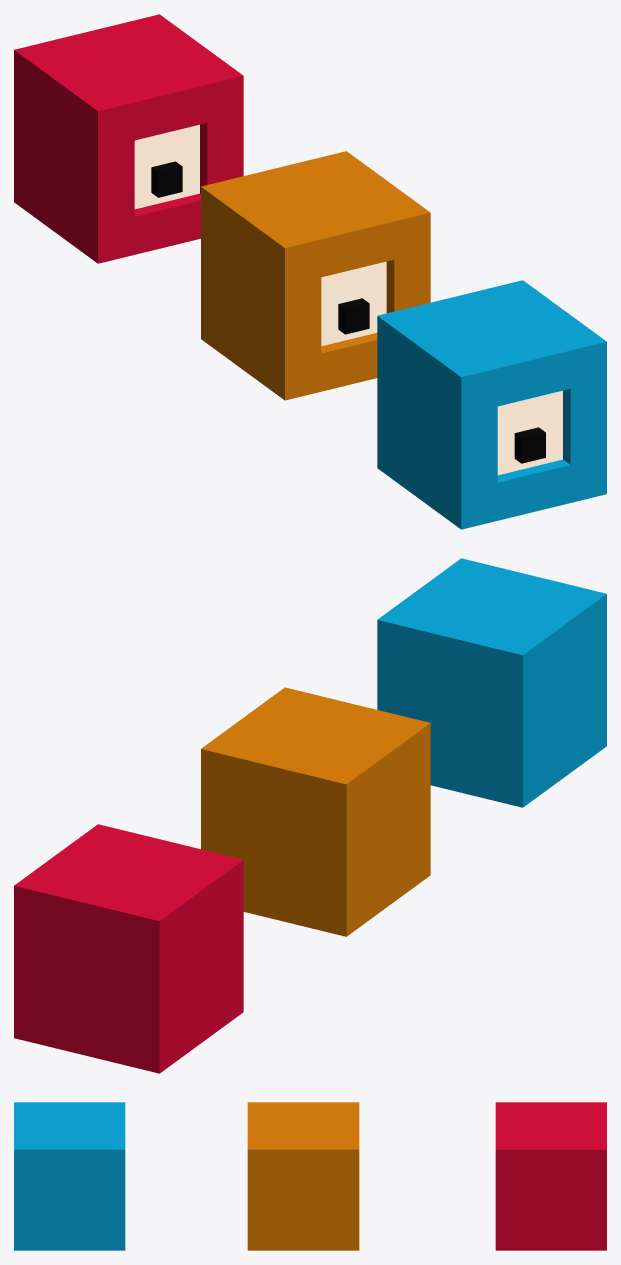
The model's file is mobs.glb.
3 views of the same model, one above another, from view 1: azimuth 30°, elevation 25°; view 2: azimuth 150°, elevation 25°; view 3: azimuth 270°, elevation 25° (orthographic). The views are drawn at different scales.
Visible parts, largest first — view 1: bobby, andy, john, andy-white, bobby-white, john-white, andy-pupil, john-pupil, bobby-pupil; view 2: andy, john, bobby; view 3: john, andy, bobby.
Boxes of the visible parts, x1,y1,x2,y2 form: bobby: (377, 280, 606, 529); andy: (14, 14, 243, 263); john: (201, 151, 430, 400); andy-white: (134, 124, 199, 209); bobby-white: (497, 390, 562, 475); john-white: (321, 261, 386, 346); andy-pupil: (151, 161, 182, 197); john-pupil: (338, 298, 369, 334); bobby-pupil: (514, 427, 545, 463); andy: (14, 824, 243, 1073); john: (201, 687, 430, 936); bobby: (377, 558, 606, 807); john: (247, 1102, 359, 1250); andy: (495, 1102, 606, 1250); bobby: (14, 1102, 125, 1250).
Bounding box in the file's own units: 0.6 × 0.6 × 3.19.
